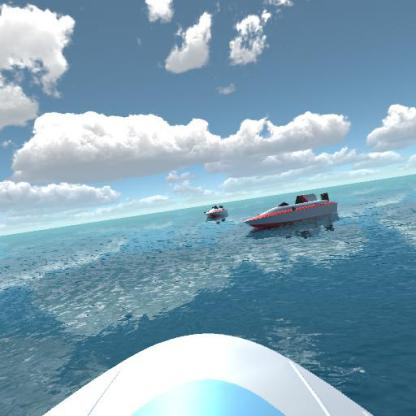usv3: (239, 188, 340, 234), (201, 200, 232, 223)
